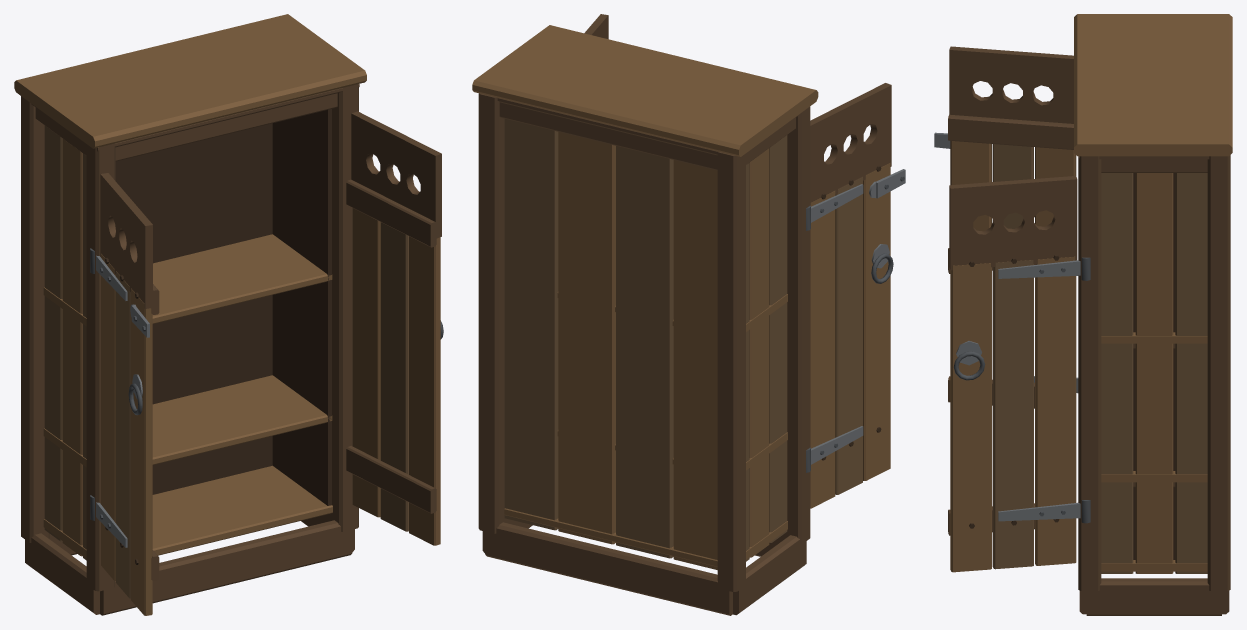
The model's file is SM_LPD_Furn_CupboardOpen_01.fbx.
3 views of the same model, side by side, from view 1: azimuth 30°, elevation 25°; view 2: azimuth 150°, elevation 25°; view 3: azimuth 270°, elevation 25° (orthographic).
Parts seen in each view (by area): view 1: SM_LPD_Furn_CupboardOpen_01; view 2: SM_LPD_Furn_CupboardOpen_01; view 3: SM_LPD_Furn_CupboardOpen_01.
Boxes of the visible parts, box(x1,y1,x2,y2) form: SM_LPD_Furn_CupboardOpen_01: box(14, 14, 443, 615); SM_LPD_Furn_CupboardOpen_01: box(472, 14, 905, 615); SM_LPD_Furn_CupboardOpen_01: box(934, 14, 1232, 615).
Size of the model in its own units: 1.19 by 1.78 by 1.01.
